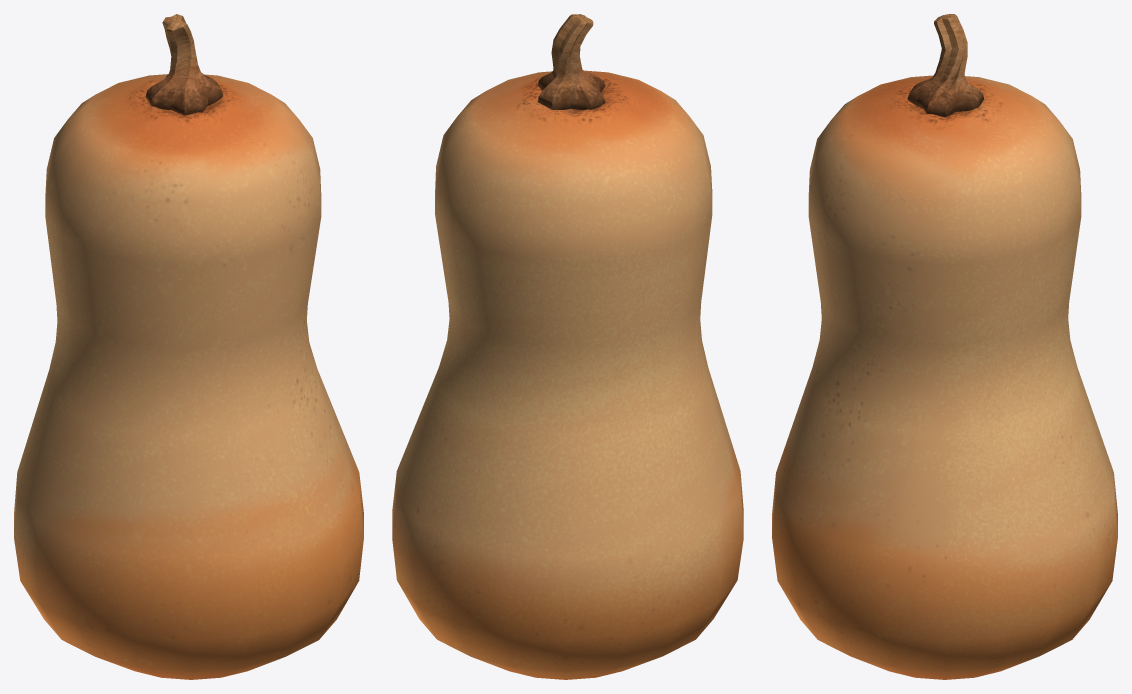
The model's file is Kitchen_Squash.fbx.
3 renders of one model, left to right at view 1: azimuth 30°, elevation 25°; view 2: azimuth 150°, elevation 25°; view 3: azimuth 270°, elevation 25°, orthographic.
Parts seen in each view (by area): view 1: Kitchen_Squash; view 2: Kitchen_Squash; view 3: Kitchen_Squash.
Part boxes in pixels (x1=…): Kitchen_Squash: x1=14, y1=14, x2=363, y2=679; Kitchen_Squash: x1=392, y1=14, x2=743, y2=679; Kitchen_Squash: x1=772, y1=14, x2=1117, y2=679.
Bounding box in the file's own units: 137 × 271 × 135.
Materials: 1 (1 with a texture image).
